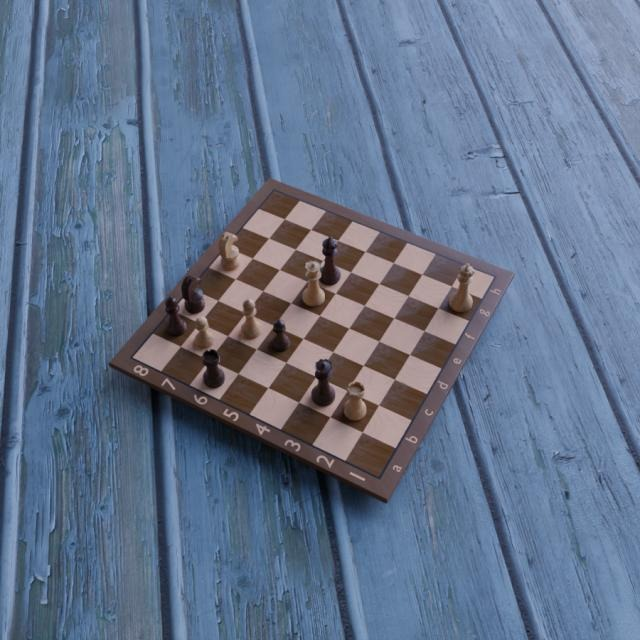black-bishop: (164, 293, 188, 338)
black-king: (320, 234, 342, 286)
black-knight: (181, 273, 206, 314)
black-pawn: (268, 318, 291, 353)
black-queen: (310, 358, 336, 410)
black-rook: (342, 381, 368, 423), (202, 349, 226, 391)
white-bishop: (239, 297, 262, 341)
white-king: (447, 262, 475, 314)
white-knight: (218, 232, 241, 270)
white-pawn: (193, 316, 217, 351)
white-queen: (301, 258, 326, 307)
